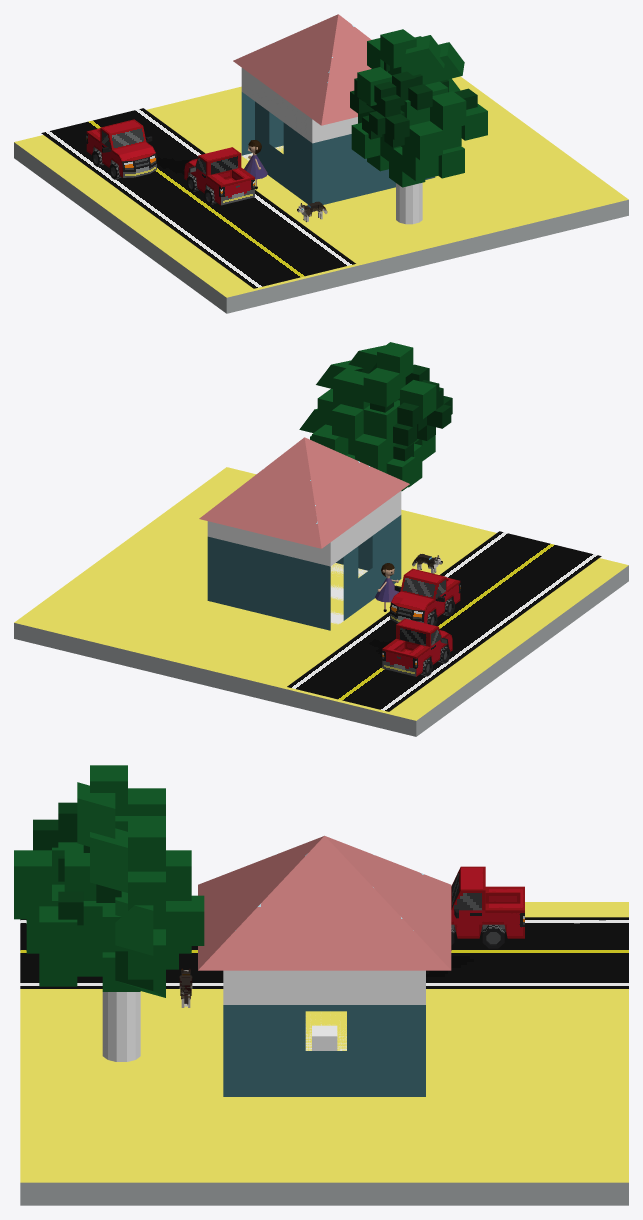
File: TeamTin'smodel.gltf
3 renders of one model, top to bottom at view 1: azimuth 30°, elevation 25°; view 2: azimuth 150°, elevation 25°; view 3: azimuth 270°, elevation 25°, orthographic. The views are drawn at different scales.
Visible parts, largest first — view 1: cuboid (×20), cube, roof, wall, ceiling, cylinder; view 2: cuboid (×13), cube, roof, wall, ceiling; view 3: cuboid (×25), roof, wall, cube, ceiling, cylinder, Root.
Boxes of the visible parts, left/top/right/bottom form: cuboid (×20): left=14, top=29, right=628, bottom=313; cube: left=41, top=108, right=355, bottom=288; roof: left=233, top=14, right=371, bottom=125; wall: left=241, top=92, right=435, bottom=204; ceiling: left=241, top=68, right=357, bottom=143; cylinder: left=396, top=182, right=422, bottom=224; cuboid (×13): left=14, top=342, right=628, bottom=736; cube: left=287, top=531, right=601, bottom=711; roof: left=199, top=437, right=409, bottom=548; wall: left=207, top=515, right=401, bottom=630; ceiling: left=207, top=491, right=401, bottom=566; cuboid (×25): left=14, top=765, right=628, bottom=1205; roof: left=198, top=835, right=451, bottom=970; wall: left=223, top=1005, right=425, bottom=1096; cube: left=20, top=917, right=628, bottom=988; ceiling: left=223, top=970, right=425, bottom=1004; cylinder: left=102, top=992, right=140, bottom=1061; Root: left=312, top=1025, right=337, bottom=1050.
Bounding box in the file's own units: 11.14 × 5.42 × 10.31.
Materials: 31 (28 with a texture image).
